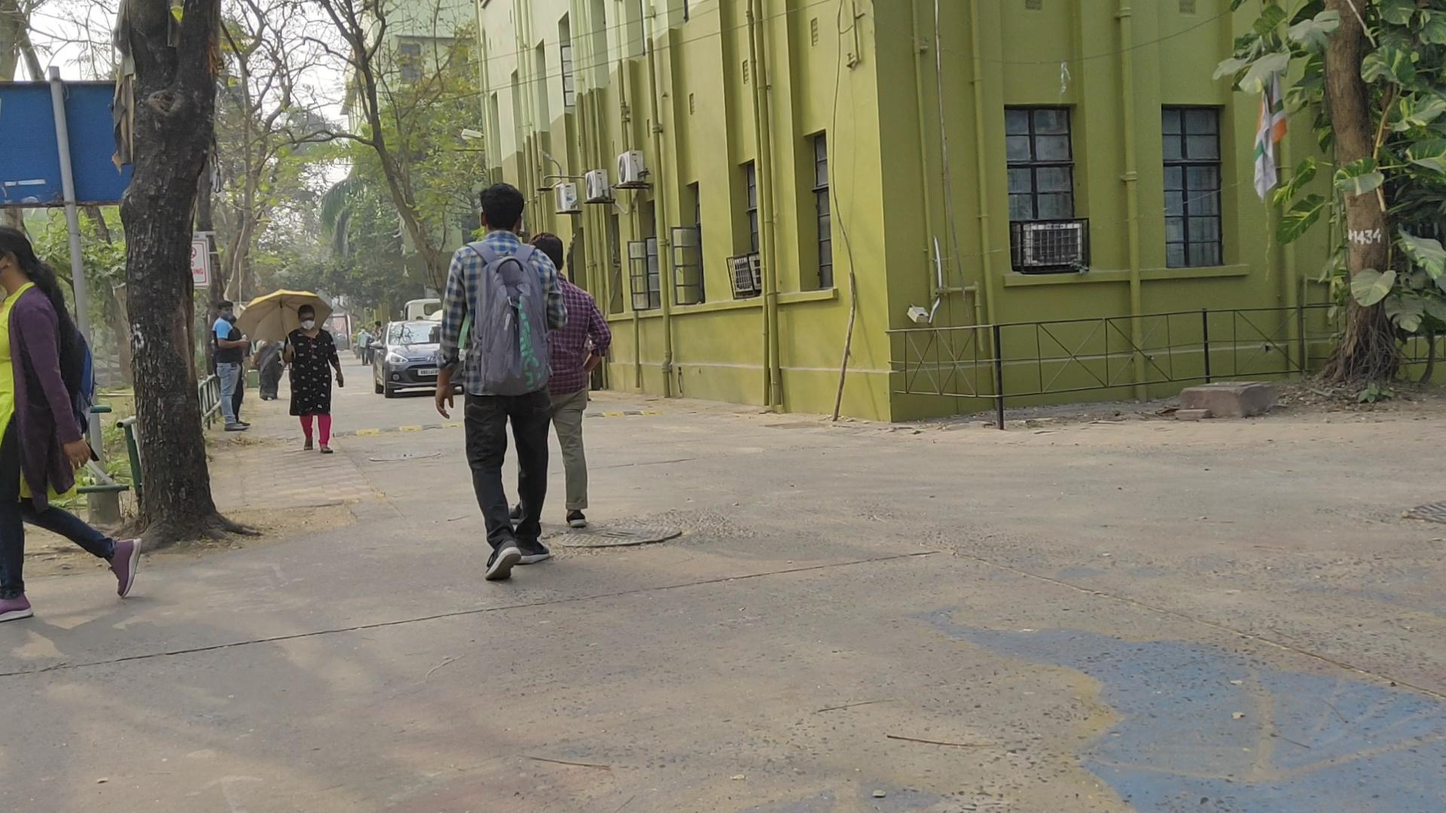car: (369, 319, 469, 398)
